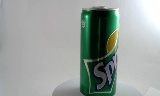sprite: (74, 5, 111, 95)
